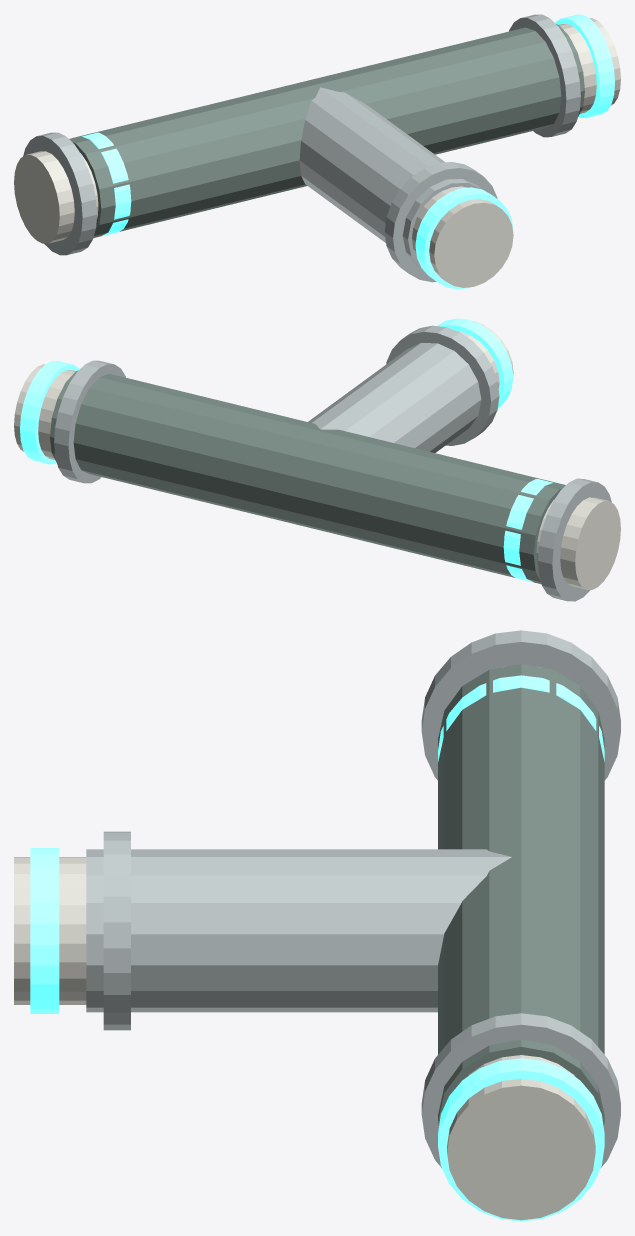
Rendered from s7-i04-tee.glb.
The picture shows the model from 3 angles, top to bottom: view 1: azimuth 30°, elevation 25°; view 2: azimuth 150°, elevation 25°; view 3: azimuth 270°, elevation 25°; orthographic projection. The views are drawn at different scales.
Parts seen in each view (by area): view 1: 000_rigid_splitter_trunk, 007_branch_0, 008_branch_connector_0_sealing_socket, 001_input_sealing_socket, 003_input_locking_collar, 010_branch_connector_0_locking_collar, 006_output_locking_collar, 005_output_cyan_snap_seal, 009_branch_connector_0_cyan_snap_seal, 004_output_sealing_socket, 002_input_cyan_snap_seal; view 2: 000_rigid_splitter_trunk, 007_branch_0, 001_input_sealing_socket, 003_input_locking_collar, 010_branch_connector_0_locking_collar, 006_output_locking_collar, 005_output_cyan_snap_seal, 004_output_sealing_socket, 009_branch_connector_0_cyan_snap_seal, 002_input_cyan_snap_seal, 008_branch_connector_0_sealing_socket; view 3: 007_branch_0, 000_rigid_splitter_trunk, 004_output_sealing_socket, 003_input_locking_collar, 006_output_locking_collar, 008_branch_connector_0_sealing_socket, 010_branch_connector_0_locking_collar, 005_output_cyan_snap_seal, 009_branch_connector_0_cyan_snap_seal, 002_input_cyan_snap_seal.
Boxes of the visible parts, x1=… form: 000_rigid_splitter_trunk: x1=69, y1=24, x2=584, y2=237; 007_branch_0: x1=299, y1=87, x2=482, y2=269; 008_branch_connector_0_sealing_socket: x1=412, y1=186, x2=513, y2=287; 001_input_sealing_socket: x1=14, y1=151, x2=98, y2=243; 003_input_locking_collar: x1=23, y1=132, x2=96, y2=255; 010_branch_connector_0_locking_collar: x1=384, y1=162, x2=497, y2=282; 006_output_locking_collar: x1=509, y1=14, x2=580, y2=137; 005_output_cyan_snap_seal: x1=555, y1=14, x2=614, y2=118; 009_branch_connector_0_cyan_snap_seal: x1=415, y1=187, x2=513, y2=289; 004_output_sealing_socket: x1=559, y1=18, x2=620, y2=113; 002_input_cyan_snap_seal: x1=77, y1=132, x2=131, y2=235; 000_rigid_splitter_trunk: x1=50, y1=370, x2=565, y2=584; 007_branch_0: x1=308, y1=343, x2=481, y2=452; 001_input_sealing_socket: x1=536, y1=497, x2=620, y2=589; 003_input_locking_collar: x1=538, y1=478, x2=611, y2=601; 010_branch_connector_0_locking_collar: x1=386, y1=325, x2=499, y2=445; 006_output_locking_collar: x1=54, y1=360, x2=125, y2=483; 005_output_cyan_snap_seal: x1=20, y1=361, x2=79, y2=464; 004_output_sealing_socket: x1=14, y1=364, x2=75, y2=459; 009_branch_connector_0_cyan_snap_seal: x1=437, y1=318, x2=513, y2=408; 002_input_cyan_snap_seal: x1=503, y1=479, x2=557, y2=582; 008_branch_connector_0_sealing_socket: x1=457, y1=321, x2=513, y2=388; 007_branch_0: x1=86, y1=849, x2=511, y2=1012; 000_rigid_splitter_trunk: x1=438, y1=664, x2=604, y2=1125; 004_output_sealing_socket: x1=447, y1=1055, x2=595, y2=1220; 003_input_locking_collar: x1=421, y1=630, x2=620, y2=780; 006_output_locking_collar: x1=421, y1=1013, x2=620, y2=1167; 008_branch_connector_0_sealing_socket: x1=14, y1=857, x2=86, y2=1004; 010_branch_connector_0_locking_collar: x1=103, y1=831, x2=130, y2=1030; 005_output_cyan_snap_seal: x1=438, y1=1058, x2=604, y2=1221; 009_branch_connector_0_cyan_snap_seal: x1=30, y1=848, x2=59, y2=1013; 002_input_cyan_snap_seal: x1=438, y1=675, x2=604, y2=761.
Size of the model in its own units: 0.58 by 0.11 by 0.335.
